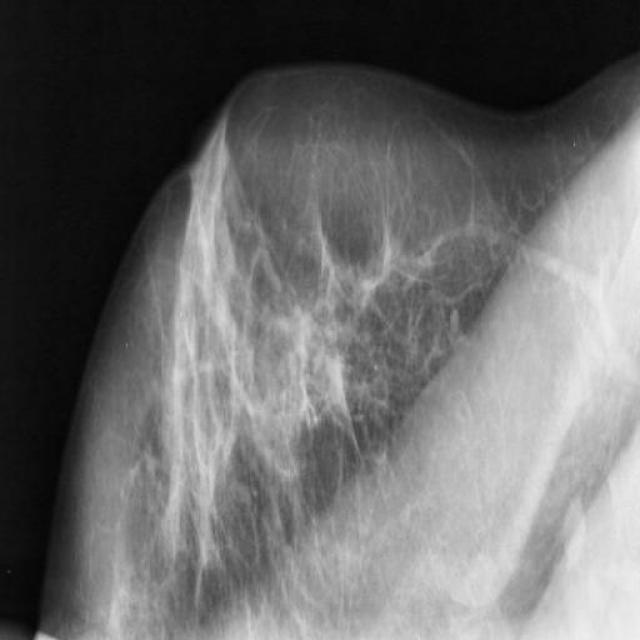cancer: (306, 184, 399, 328)
